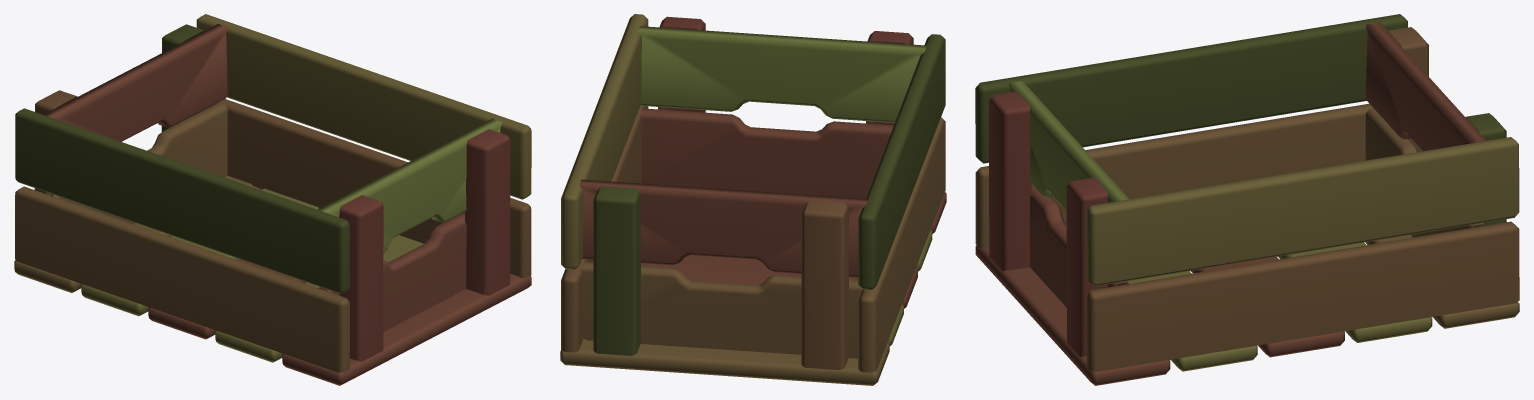
File: WoodCrate.fbx
The picture shows the model from 3 angles, left to right: view 1: azimuth 30°, elevation 25°; view 2: azimuth 150°, elevation 25°; view 3: azimuth 270°, elevation 25°; orthographic projection. The views are drawn at different scales.
Parts seen in each view (by area): view 1: WoodCrate; view 2: WoodCrate; view 3: WoodCrate.
Boxes of the visible parts, x1,y1,x2,y2 form: WoodCrate: (14,14,531,385); WoodCrate: (560,14,946,385); WoodCrate: (975,14,1519,385).
Bounding box in the file's own units: 111 × 46.24 × 128.
